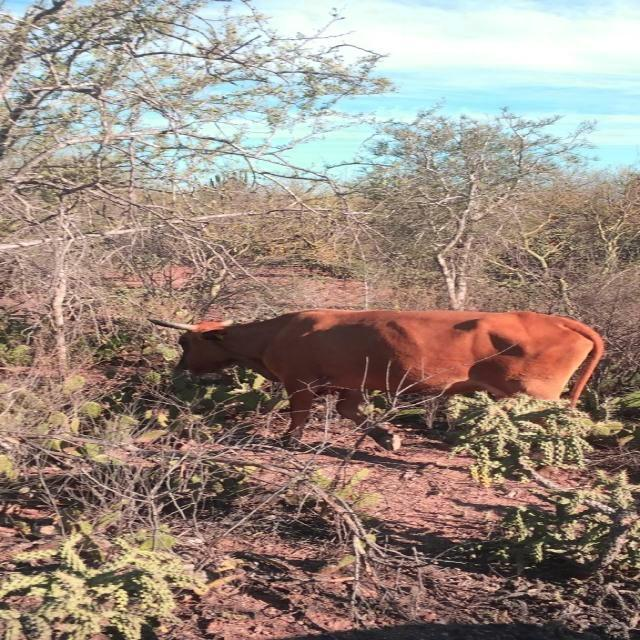cow: (152, 310, 604, 441)
